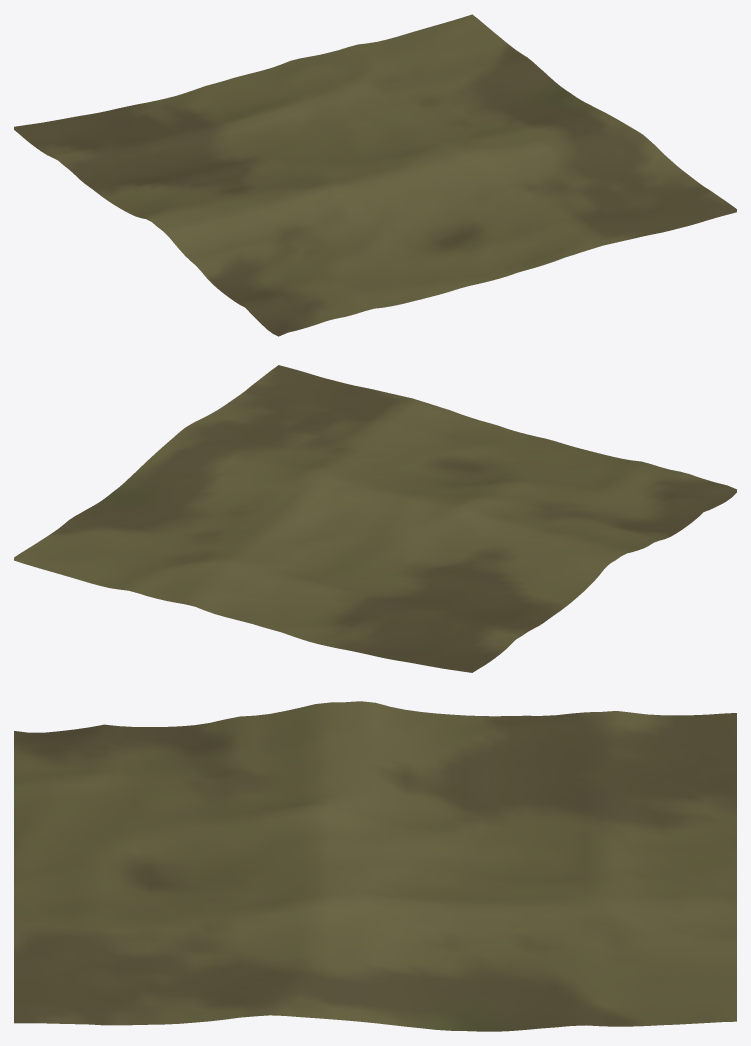
Rendered from land_m_04_04.glb.
3 renders of one model, top to bottom at view 1: azimuth 30°, elevation 25°; view 2: azimuth 150°, elevation 25°; view 3: azimuth 270°, elevation 25°, orthographic. The views are drawn at different scales.
Parts seen in each view (by area): view 1: land_m_04_04; view 2: land_m_04_04; view 3: land_m_04_04.
Boxes of the visible parts, bbox=[...] form: land_m_04_04: bbox=[14, 14, 736, 336]; land_m_04_04: bbox=[14, 365, 736, 672]; land_m_04_04: bbox=[14, 701, 736, 1031].
Size of the model in its own units: 960 by 57.61 by 960.
